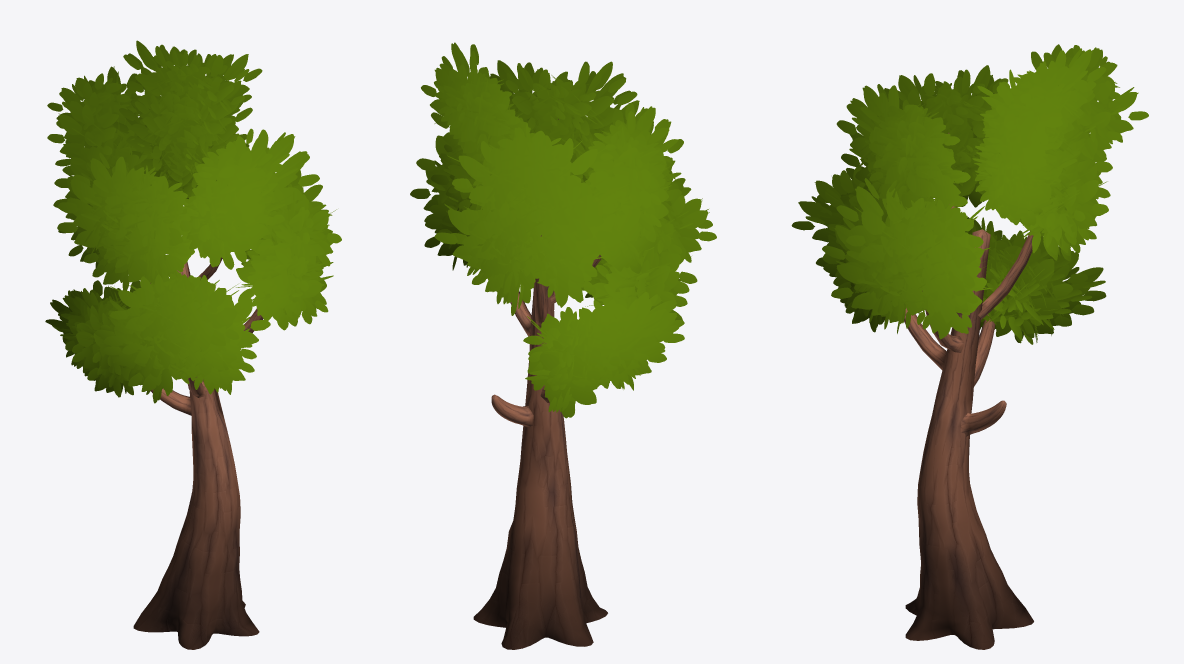
File: common_tree_5.glb
The picture shows the model from 3 angles, left to right: view 1: azimuth 30°, elevation 25°; view 2: azimuth 150°, elevation 25°; view 3: azimuth 270°, elevation 25°; orthographic projection. The views are drawn at different scales.
Parts seen in each view (by area): view 1: CommonTree_5; view 2: CommonTree_5; view 3: CommonTree_5.
Boxes of the visible parts, x1=… form: CommonTree_5: x1=45, y1=40, x2=341, y2=649; CommonTree_5: x1=410, y1=42, x2=716, y2=649; CommonTree_5: x1=791, y1=44, x2=1148, y2=649.
Bounding box in the file's own units: 3.67 × 7.01 × 4.22.
2 materials, 2 textured.
